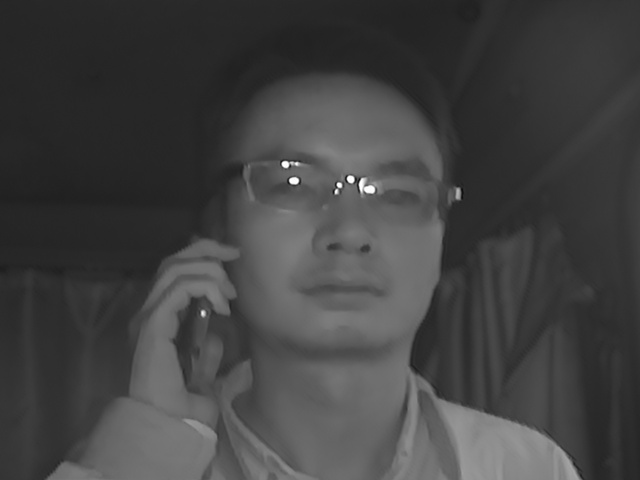hand: (119, 239, 240, 428)
